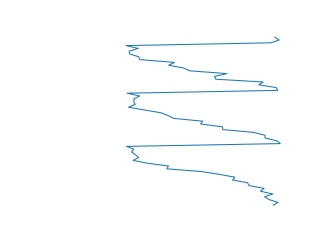distributaryMouthBar: (121, 35, 284, 209)
